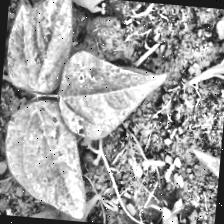ALS: (0, 97, 94, 222), (50, 52, 170, 148), (2, 0, 80, 94)
